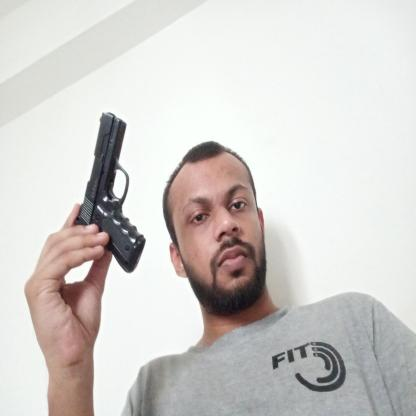handgun: (74, 110, 147, 275)
